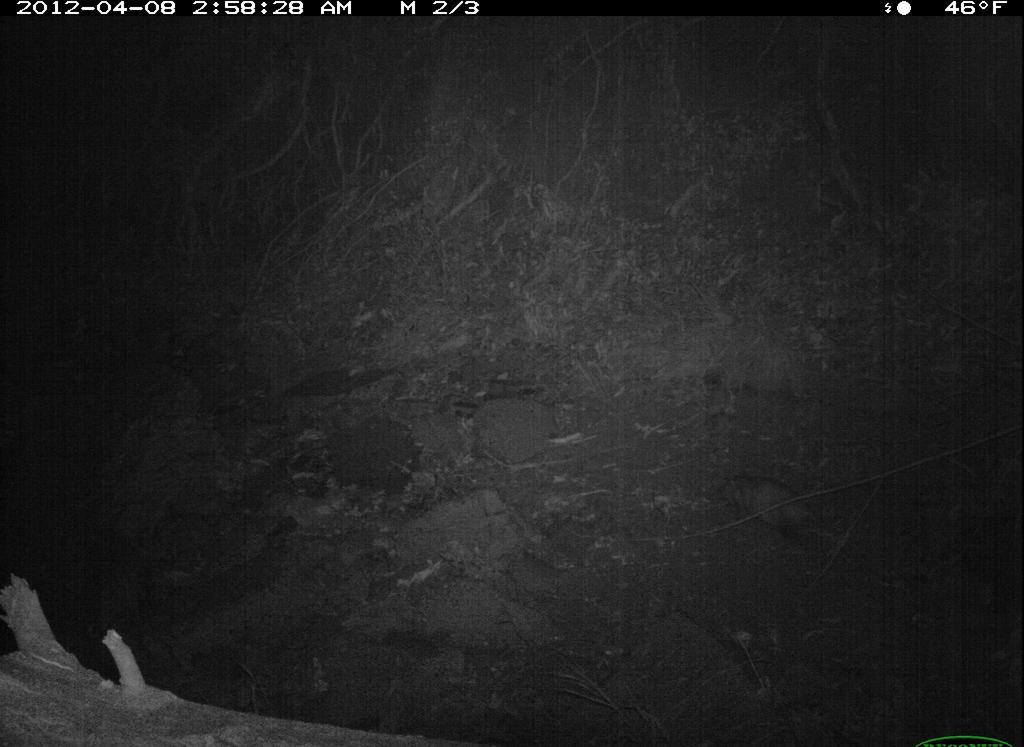opossum: (702, 455, 836, 556)
